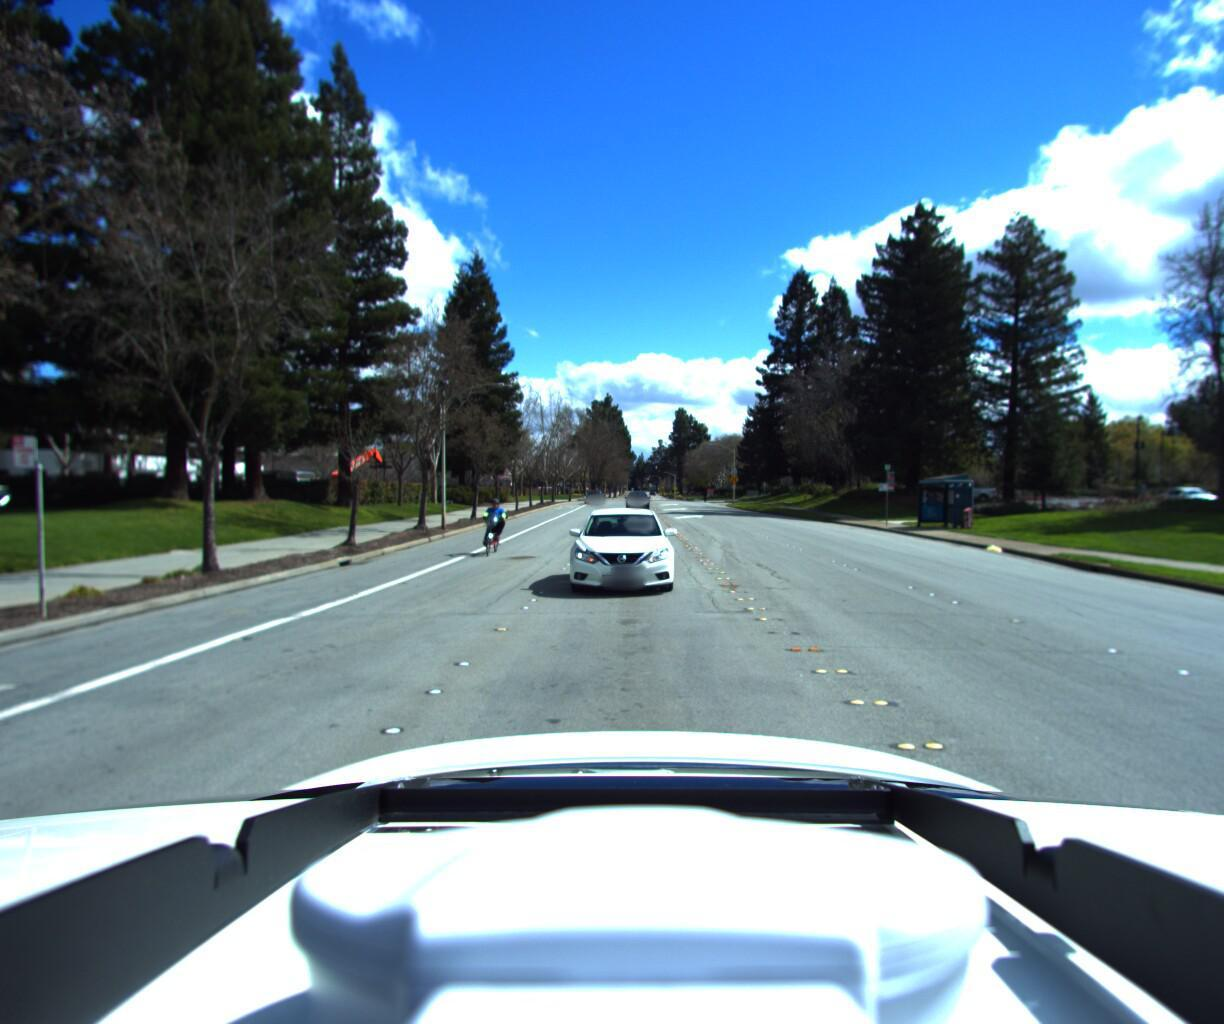bicycle: (472, 501, 507, 562)
car: (564, 508, 672, 606), (623, 497, 646, 517), (582, 496, 601, 510)
